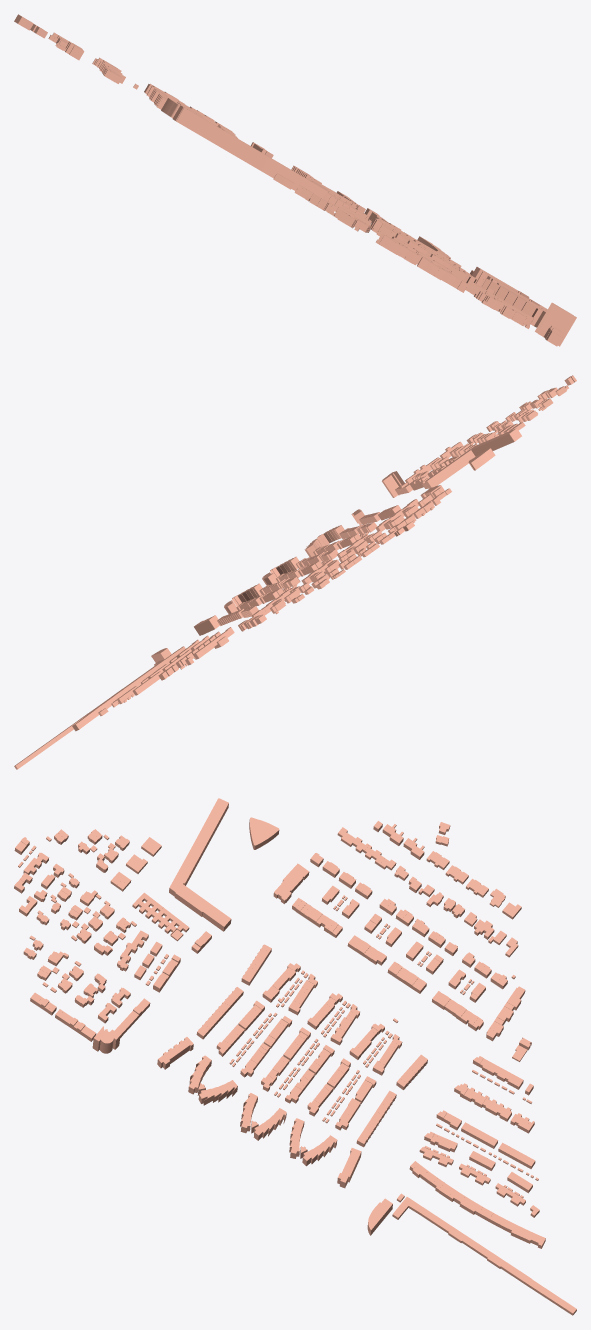
3 renders of one model, top to bottom at view 1: azimuth 30°, elevation 25°; view 2: azimuth 150°, elevation 25°; view 3: azimuth 270°, elevation 25°, orthographic. The views are drawn at different scales.
Bounding box in the file's own units: 534 × 451 × 685.
